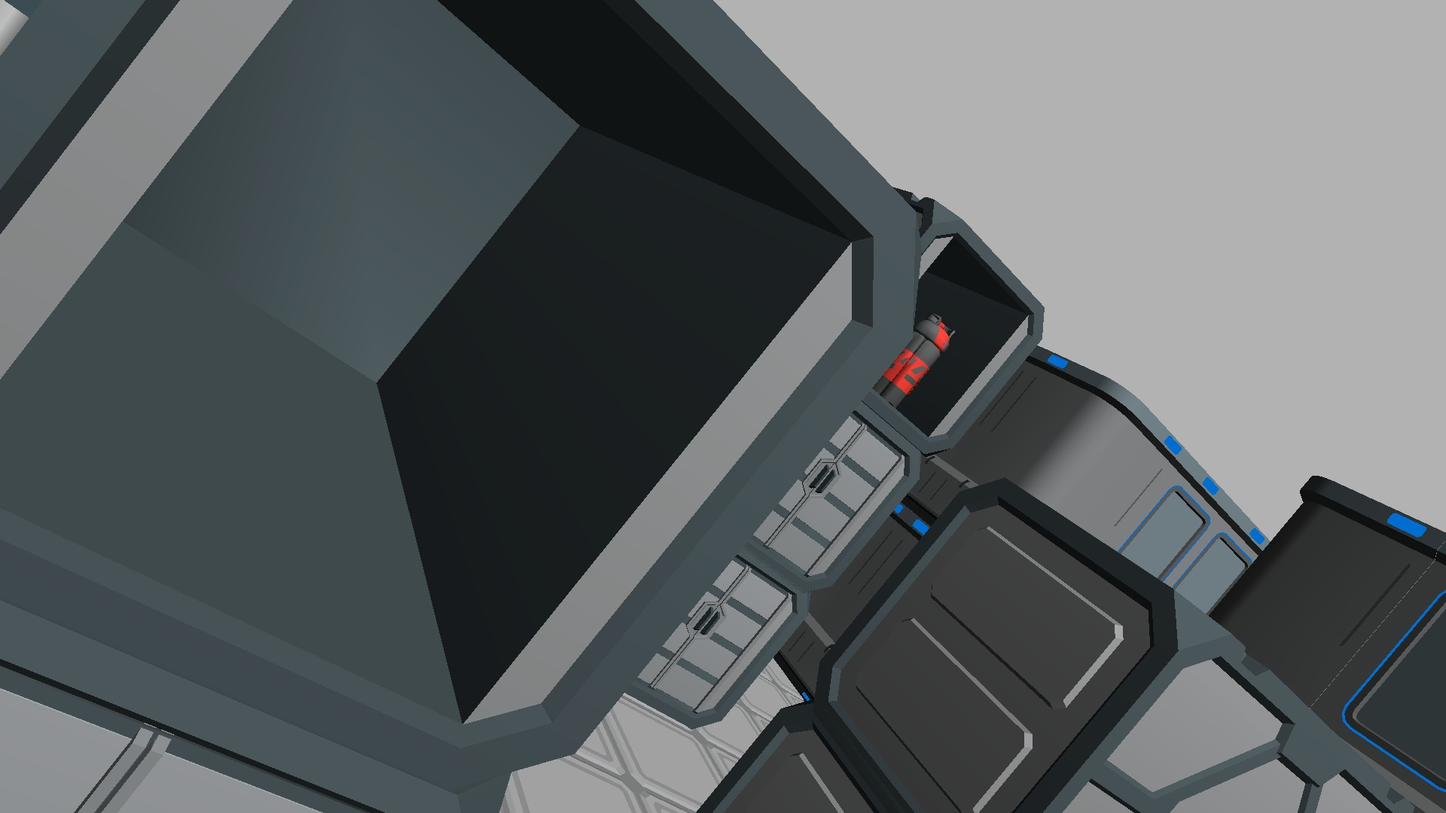red barrel: (873, 312, 955, 409)
